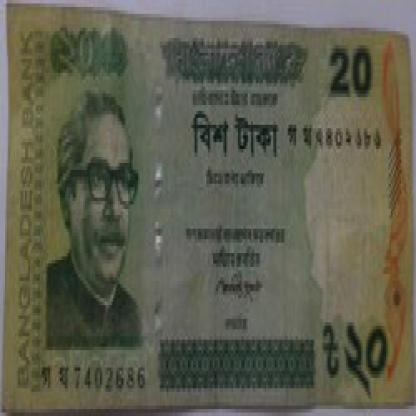Twenty: (326, 312, 404, 395), (188, 107, 283, 156), (48, 28, 128, 86), (320, 38, 372, 111)
